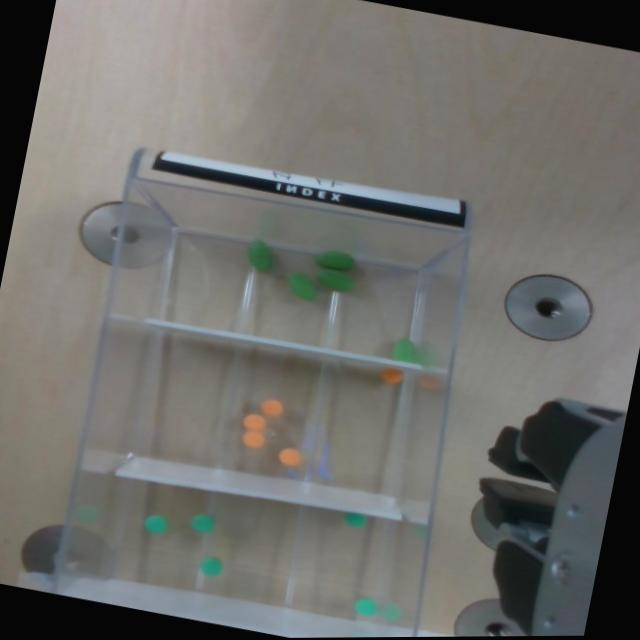famodine: (141, 512, 169, 535), (197, 554, 223, 577), (190, 512, 216, 533), (353, 597, 378, 618), (343, 510, 368, 529)
otillen_tab: (285, 270, 321, 302), (244, 238, 277, 272), (315, 266, 353, 292), (315, 248, 356, 271), (247, 240, 275, 271), (316, 268, 353, 290), (289, 271, 317, 299), (315, 250, 355, 269), (391, 337, 417, 362), (391, 337, 416, 360)
samsung_octylonium_tab: (277, 445, 303, 466), (259, 397, 284, 417), (380, 365, 404, 384), (243, 412, 267, 431), (242, 429, 265, 448)
